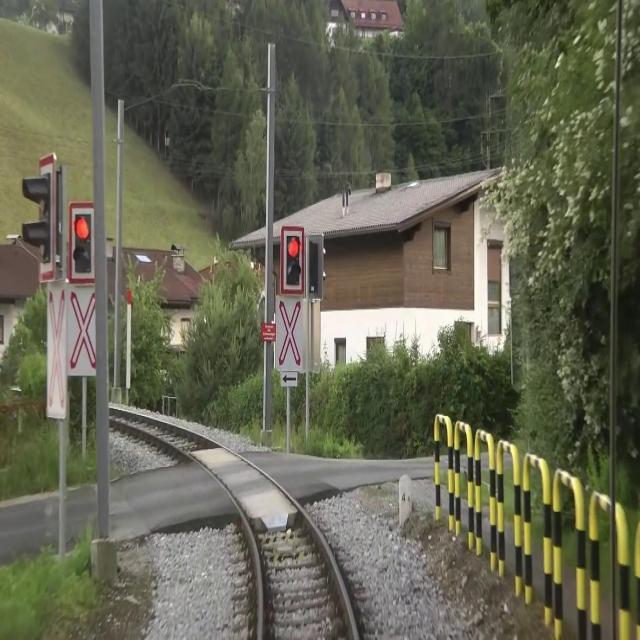rail-track: (110, 411, 355, 639)
